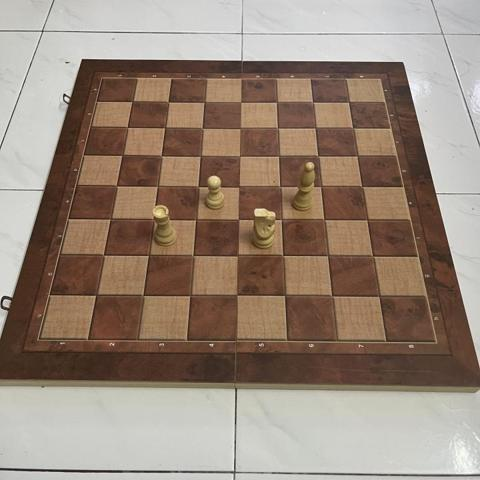xcorner: (233, 93, 250, 110), (197, 93, 214, 110), (195, 119, 212, 136), (232, 147, 249, 164), (193, 147, 210, 164), (313, 178, 330, 195), (359, 212, 376, 229), (231, 211, 248, 228), (188, 211, 205, 228), (275, 248, 292, 265), (88, 287, 105, 304), (342, 94, 358, 111), (269, 94, 286, 110), (308, 120, 325, 136), (270, 120, 287, 136), (233, 119, 249, 136), (157, 119, 174, 135), (350, 148, 366, 165), (271, 148, 288, 164), (354, 179, 371, 195), (273, 178, 289, 195), (109, 177, 125, 194), (320, 248, 336, 265), (230, 248, 247, 264), (141, 247, 157, 264), (96, 247, 112, 264), (324, 288, 340, 305), (277, 288, 293, 305), (306, 94, 322, 110), (161, 93, 177, 109), (125, 93, 141, 109), (346, 120, 362, 136), (120, 119, 136, 135), (311, 148, 327, 164), (154, 147, 170, 163), (115, 147, 131, 163), (232, 178, 248, 194), (191, 178, 207, 194), (150, 178, 166, 194), (317, 212, 333, 228), (274, 212, 290, 228), (146, 211, 162, 227), (103, 211, 119, 227), (365, 249, 381, 265), (186, 248, 202, 264), (371, 289, 387, 305), (230, 288, 246, 304), (183, 288, 199, 304), (136, 288, 152, 304)
